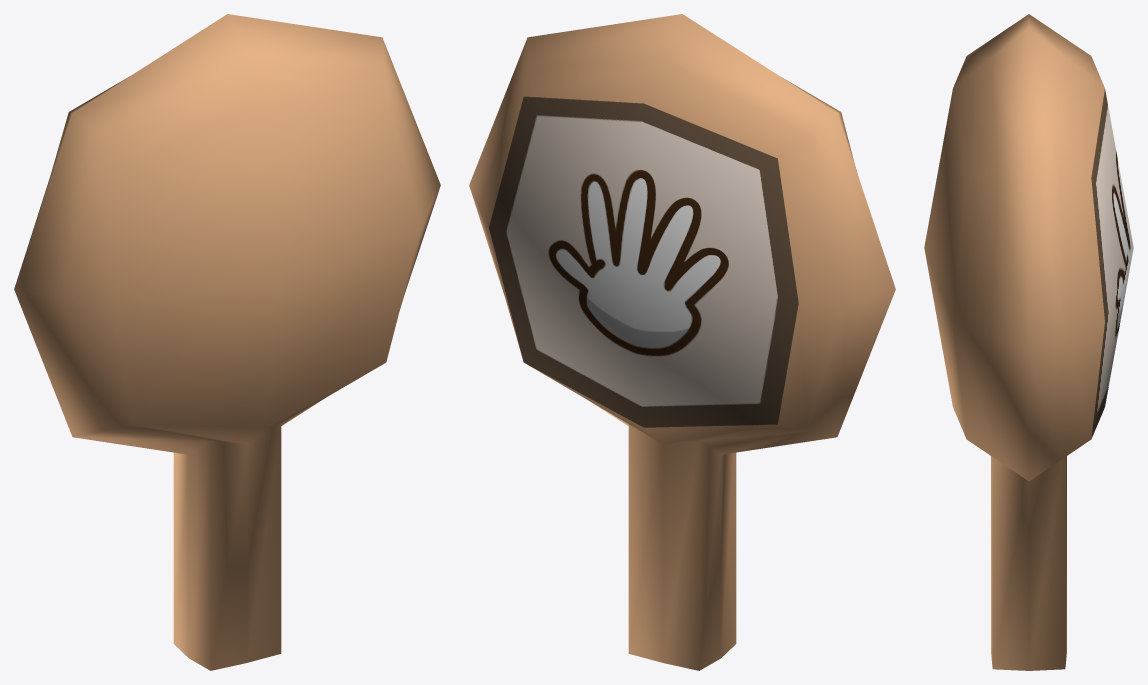
The model's file is Brand_Cloth.fbx.
3 renders of one model, left to right at view 1: azimuth 30°, elevation 25°; view 2: azimuth 150°, elevation 25°; view 3: azimuth 270°, elevation 25°, orthographic.
Parts seen in each view (by area): view 1: Cube; view 2: Cube; view 3: Cube.
Boxes of the visible parts, <box> form: Cube: <box>14,14,440,670</box>; Cube: <box>469,14,895,670</box>; Cube: <box>924,14,1133,670</box>.
Size of the model in its own units: 168 by 239 by 72.58.
1 material, 1 textured.
